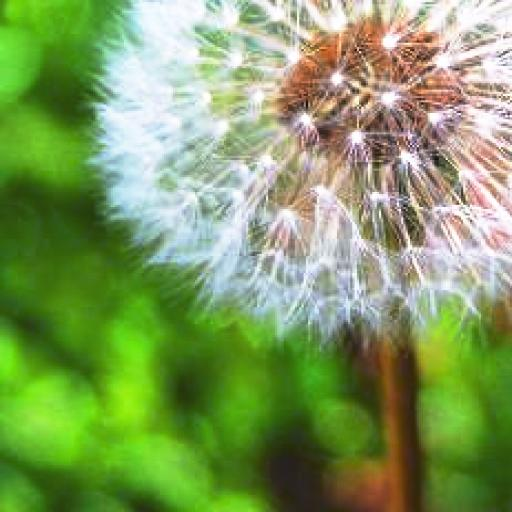dandelion: (82, 0, 509, 512)
